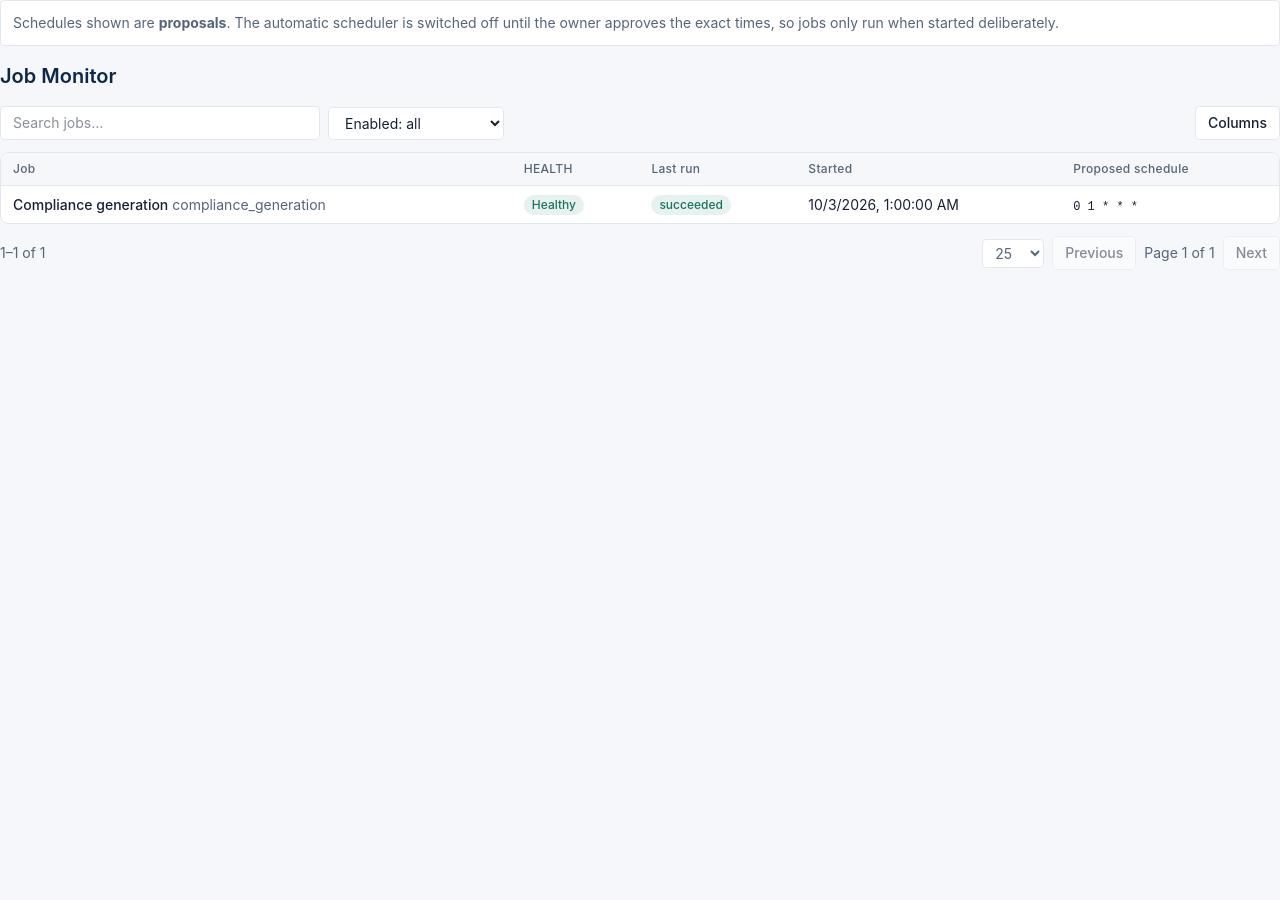
Scenario: Job Monitor › read-only users cannot change jobs
Click the text "Compliance generation" at (91, 204), box x1=13 y1=196 x2=168 y2=212
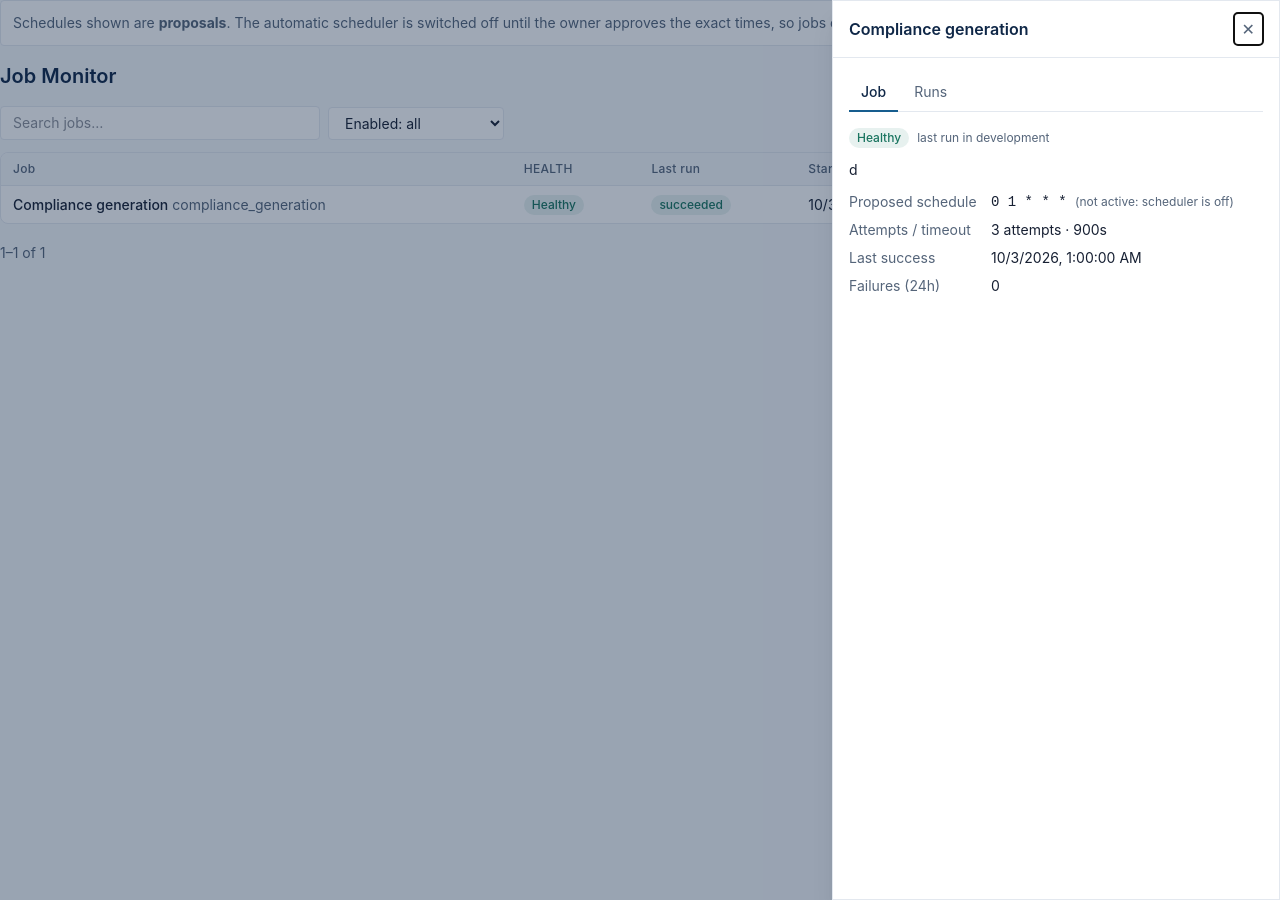
Now the text "Failures (24h)" is shown, box x1=849 y1=277 x2=940 y2=294
